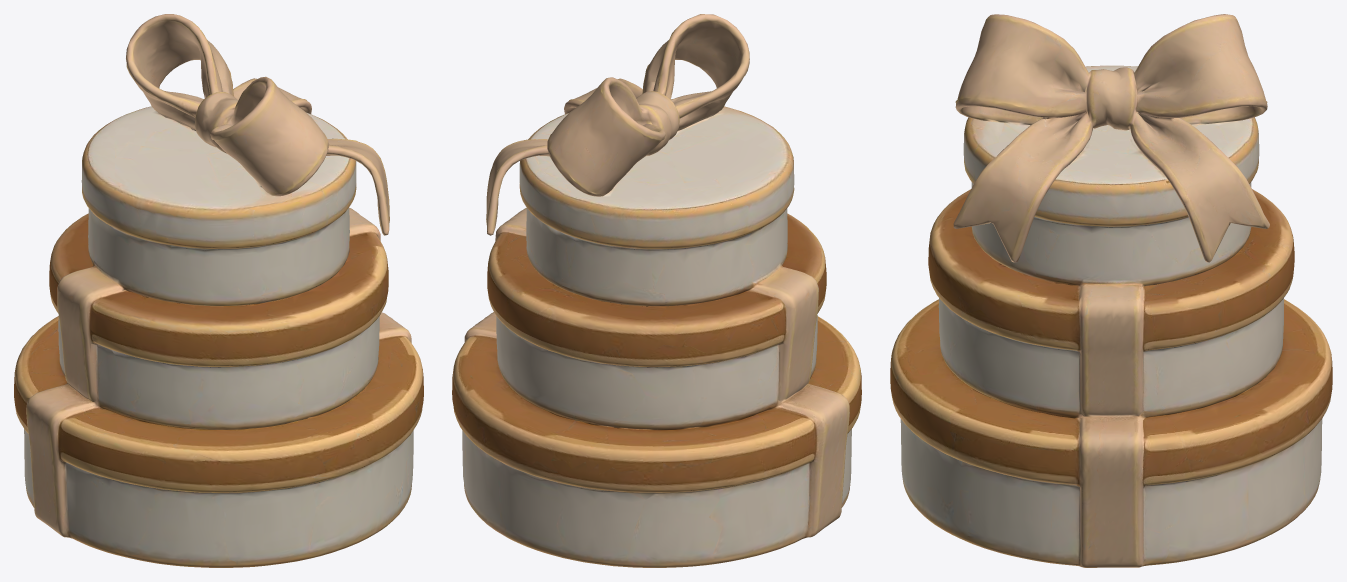
The model's file is hatboxes.glb.
3 renders of one model, left to right at view 1: azimuth 30°, elevation 25°; view 2: azimuth 150°, elevation 25°; view 3: azimuth 270°, elevation 25°, orthographic. The views are drawn at different scales.
Bounding box in the file's own units: 1.72 × 2 × 1.71.
Materials: 1 (1 with a texture image).
